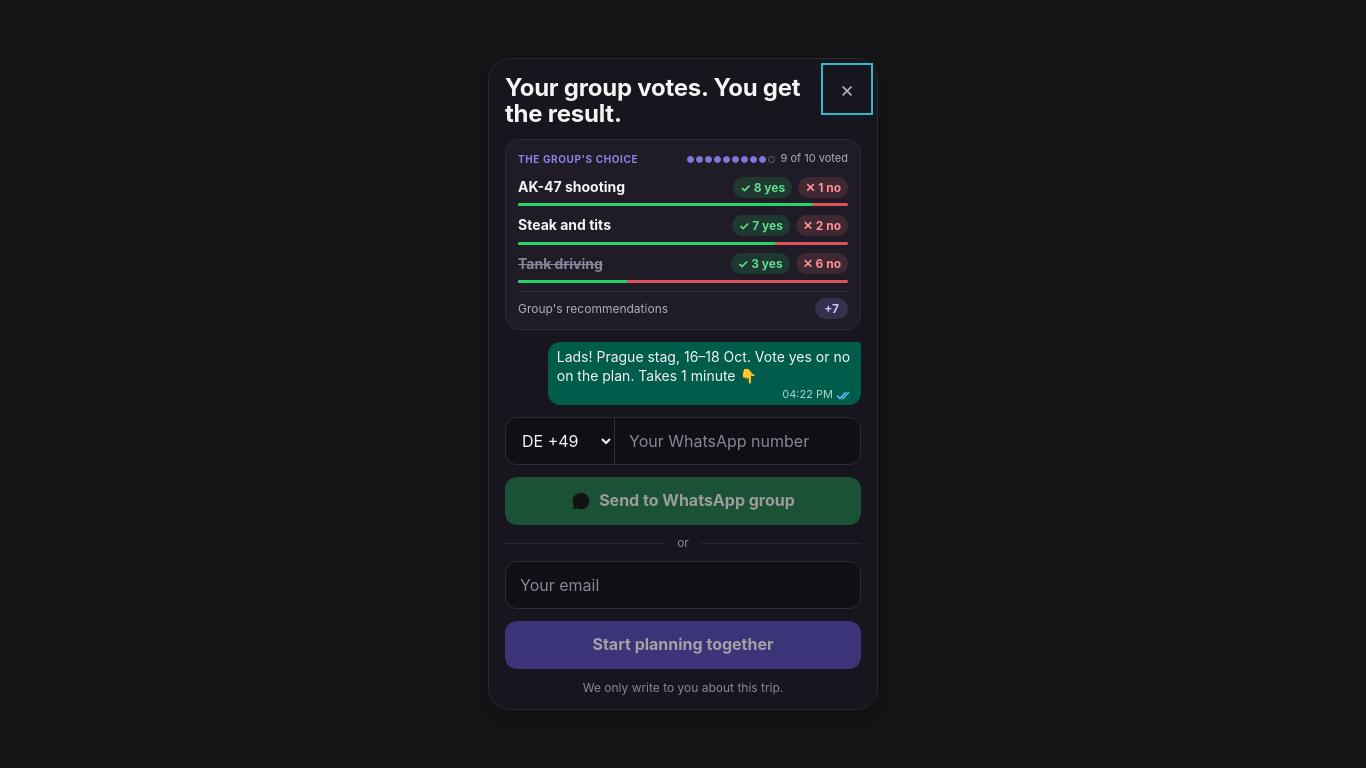
Scenario: each button waits for its own contact
Step 1. Select "UK +44" in the dropdown named "Country code" → (560, 441), box 506,418 -> 615,464
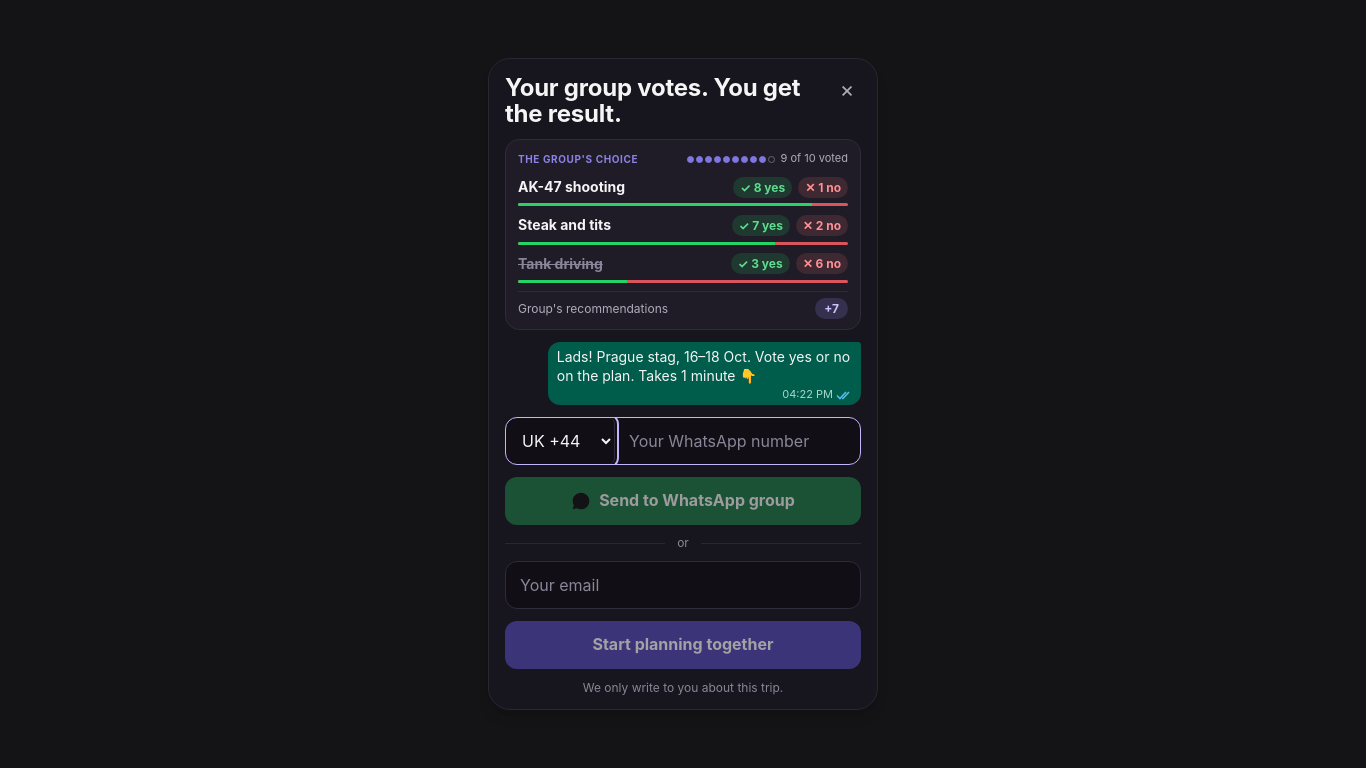
Check: the button "Send to WhatsApp group" is disabled, box 505,477 -> 861,525
Check: the button "Start planning together" is disabled, box 505,621 -> 861,669
Step 2. Type "7700 900123" into the field labelled "Your WhatsApp number" → (738, 441), box 615,418 -> 860,464
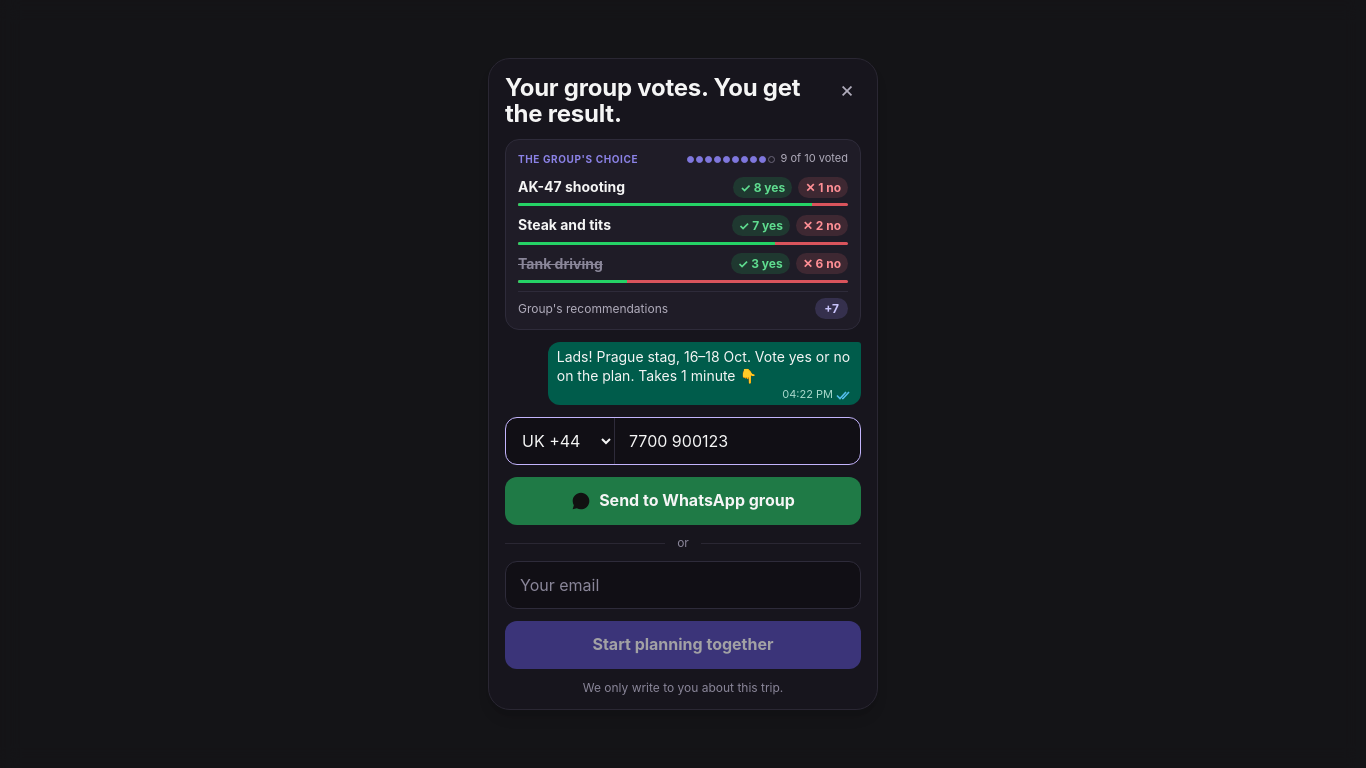
Check: the button "Start planning together" is disabled, box 505,621 -> 861,669
Check: the button "Send to WhatsApp group" is enabled, box 505,477 -> 861,525
Step 3. Type "max@example.com" into the field labelled "Your email" → (683, 585), box 506,562 -> 860,608
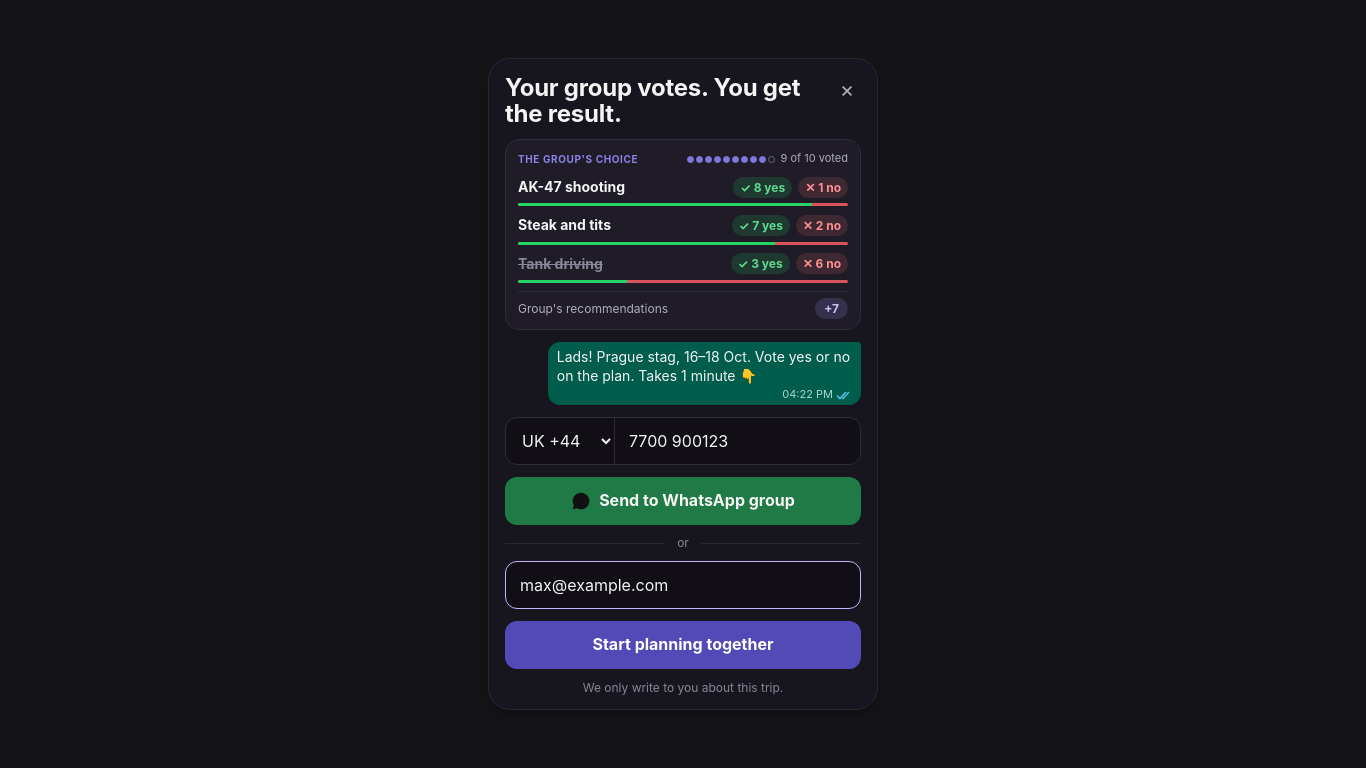
Check: the button "Start planning together" is enabled, box 505,621 -> 861,669
